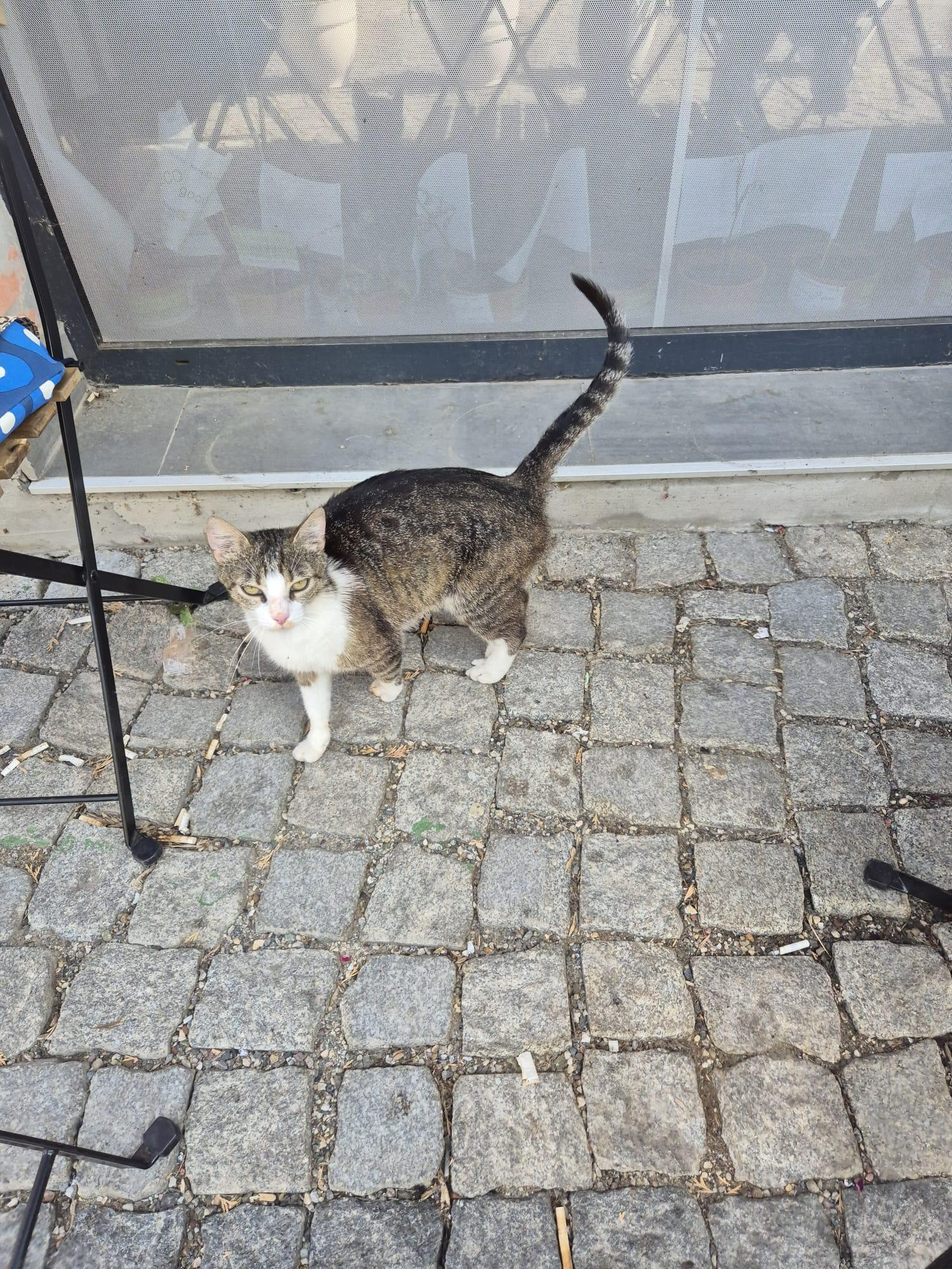macka: (202, 274, 634, 765)
